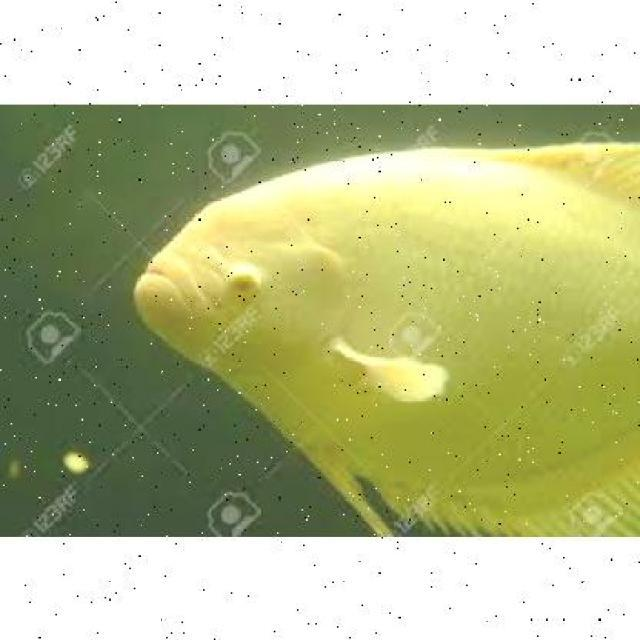gurame: (131, 146, 638, 528)
